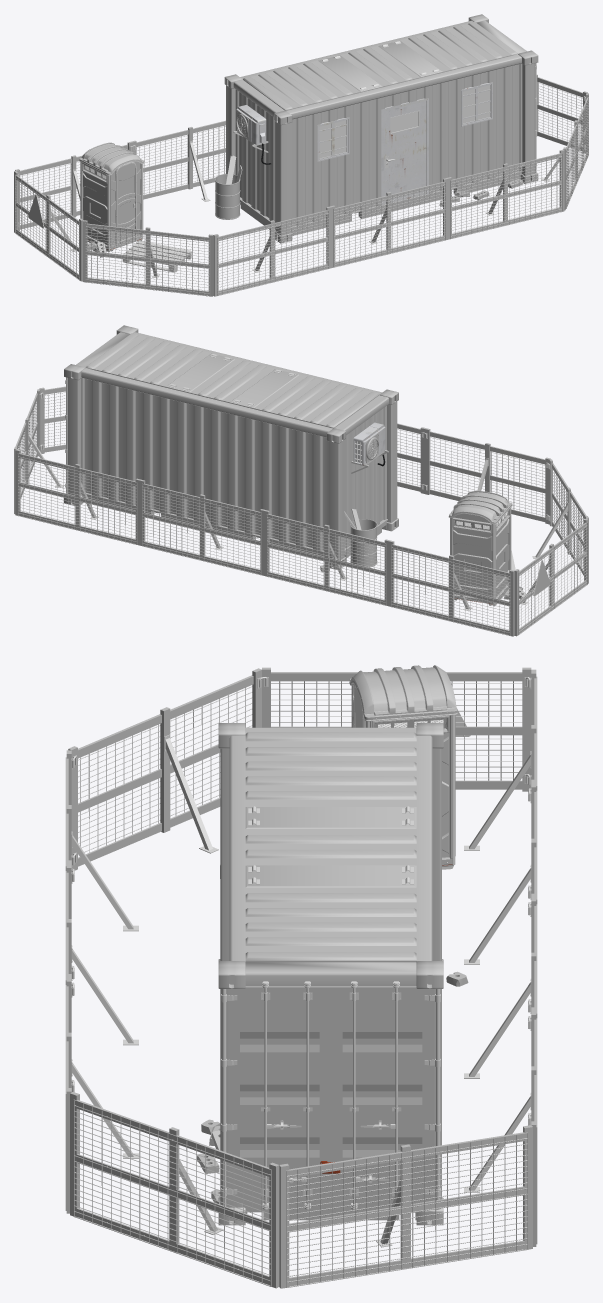
File: KB3D_CTS_BldgLG_E.fbx
3 views of the same model, one above another, from view 1: azimuth 30°, elevation 25°; view 2: azimuth 150°, elevation 25°; view 3: azimuth 270°, elevation 25° (orthographic). The views are drawn at different scales.
Parts seen in each view (by area): view 1: KB3D_CTS_BldgLG_E_Container, KB3D_CTS_BldgLG_E_Fence, KB3D_CTS_BldgLG_E_ToiToi, KB3D_CTS_BldgLG_E_Barrel, KB3D_CTS_BldgLG_E_Palete; view 2: KB3D_CTS_BldgLG_E_Container, KB3D_CTS_BldgLG_E_Fence, KB3D_CTS_BldgLG_E_ToiToi, KB3D_CTS_BldgLG_E_Barrel; view 3: KB3D_CTS_BldgLG_E_Container, KB3D_CTS_BldgLG_E_Fence, KB3D_CTS_BldgLG_E_ToiToi.
Part boxes in pixels (x1=…): KB3D_CTS_BldgLG_E_Container: x1=87, y1=14, x2=538, y2=257; KB3D_CTS_BldgLG_E_Fence: x1=14, y1=74, x2=588, y2=296; KB3D_CTS_BldgLG_E_ToiToi: x1=79, y1=142, x2=144, y2=252; KB3D_CTS_BldgLG_E_Barrel: x1=215, y1=155, x2=242, y2=219; KB3D_CTS_BldgLG_E_Palete: x1=122, y1=240, x2=191, y2=272; KB3D_CTS_BldgLG_E_Container: x1=64, y1=325, x2=526, y2=599; KB3D_CTS_BldgLG_E_Fence: x1=14, y1=386, x2=588, y2=636; KB3D_CTS_BldgLG_E_ToiToi: x1=448, y1=491, x2=512, y2=606; KB3D_CTS_BldgLG_E_Barrel: x1=344, y1=508, x2=377, y2=567; KB3D_CTS_BldgLG_E_Container: x1=197, y1=723, x2=468, y2=1225; KB3D_CTS_BldgLG_E_Fence: x1=65, y1=667, x2=537, y2=1288; KB3D_CTS_BldgLG_E_ToiToi: x1=349, y1=665, x2=457, y2=869.
Size of the model in its own units: 1375 by 335 by 548.
